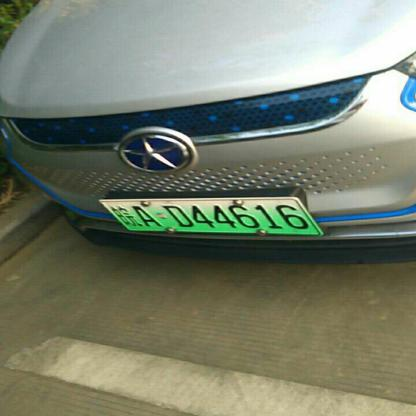lp: (98, 198, 323, 233)
